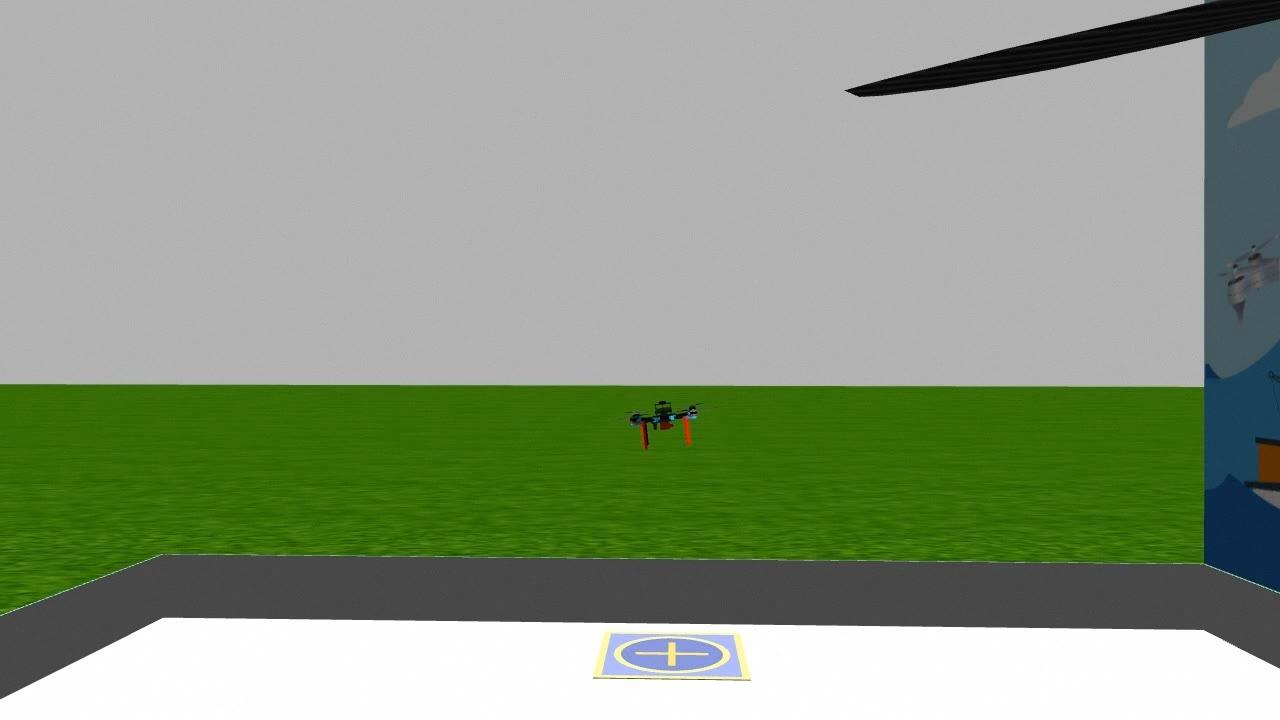UAV: (618, 380, 713, 461)
